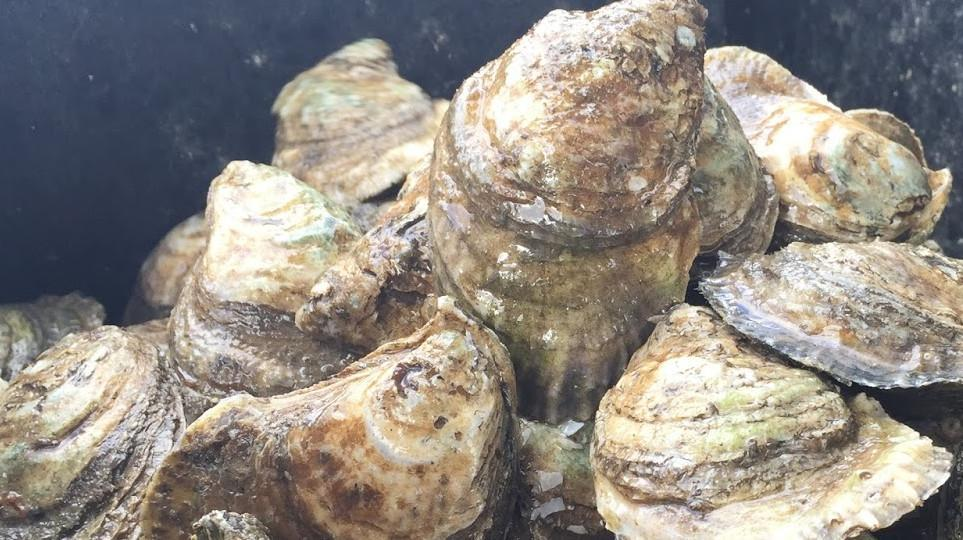Oyster-Closed: (702, 248, 963, 397), (141, 215, 207, 314)
Oyster-Open: (429, 0, 709, 427), (140, 298, 521, 540), (590, 304, 953, 540), (704, 45, 953, 244), (167, 161, 374, 399), (0, 319, 189, 540), (272, 39, 448, 201), (296, 176, 433, 351), (690, 75, 781, 286), (504, 419, 616, 540), (0, 291, 105, 392), (843, 109, 926, 166)
